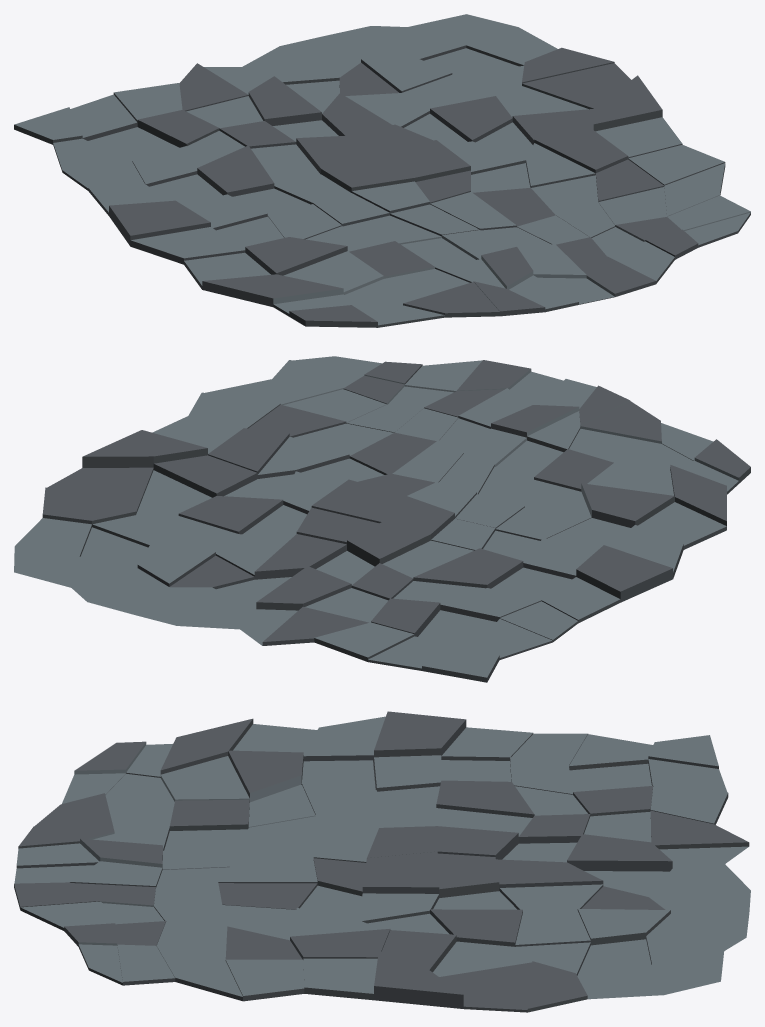
Rendered from Stone_Floor_01.gltf.
The picture shows the model from 3 angles, top to bottom: view 1: azimuth 30°, elevation 25°; view 2: azimuth 150°, elevation 25°; view 3: azimuth 270°, elevation 25°; orthographic projection. The views are drawn at different scales.
Parts seen in each view (by area): view 1: stone floor; view 2: stone floor; view 3: stone floor.
Boxes of the visible parts, box(x1,y1,x2,y2) form: stone floor: box(14, 14, 750, 327); stone floor: box(14, 356, 750, 682); stone floor: box(14, 711, 750, 1012).
Bounding box in the file's own units: 1.16 × 0.0325 × 1.25.
1 material, 1 textured.
